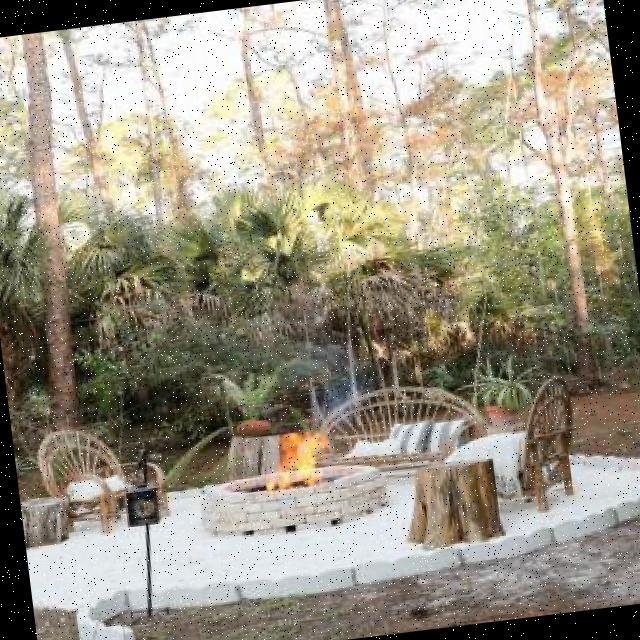fire: (260, 428, 334, 498)
